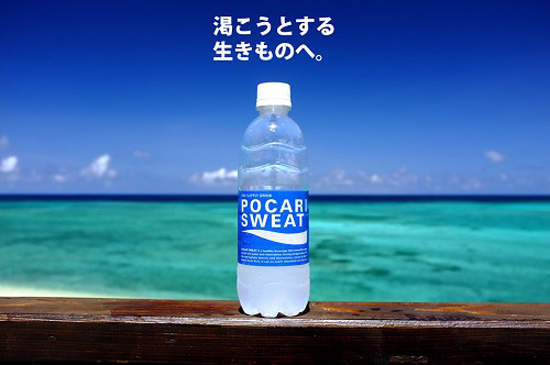POCARI SWEAT: (235, 82, 313, 315)
